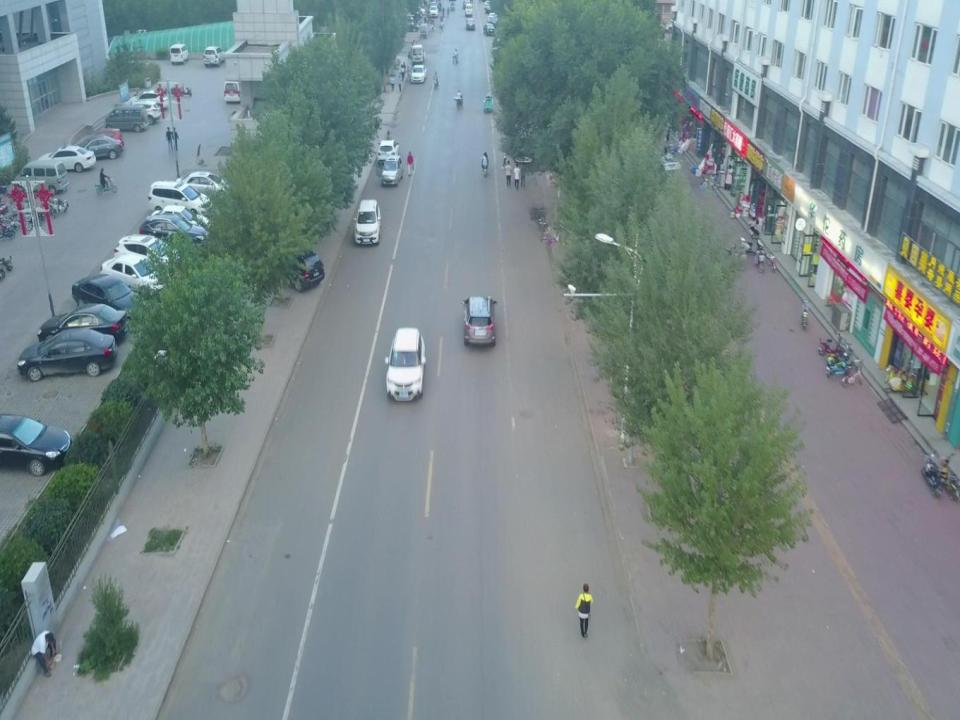car: (15, 326, 117, 378), (37, 303, 130, 352), (0, 413, 72, 476), (71, 274, 143, 331), (115, 232, 184, 284), (100, 253, 173, 300), (385, 326, 426, 402), (139, 213, 210, 256), (272, 241, 325, 292), (148, 180, 212, 220), (150, 202, 211, 239), (174, 170, 236, 206), (461, 294, 498, 346), (36, 144, 97, 173), (354, 198, 382, 246), (74, 135, 124, 160), (122, 100, 162, 126), (126, 88, 168, 112), (89, 127, 124, 154), (376, 154, 404, 187), (377, 138, 400, 162), (203, 45, 225, 67), (410, 64, 427, 83), (483, 23, 495, 35), (465, 18, 476, 31), (429, 5, 439, 17), (488, 12, 497, 24)
truck: (412, 44, 425, 64)
van: (13, 160, 69, 196), (102, 104, 149, 134), (224, 74, 242, 102), (170, 40, 190, 64), (464, 3, 474, 18)
